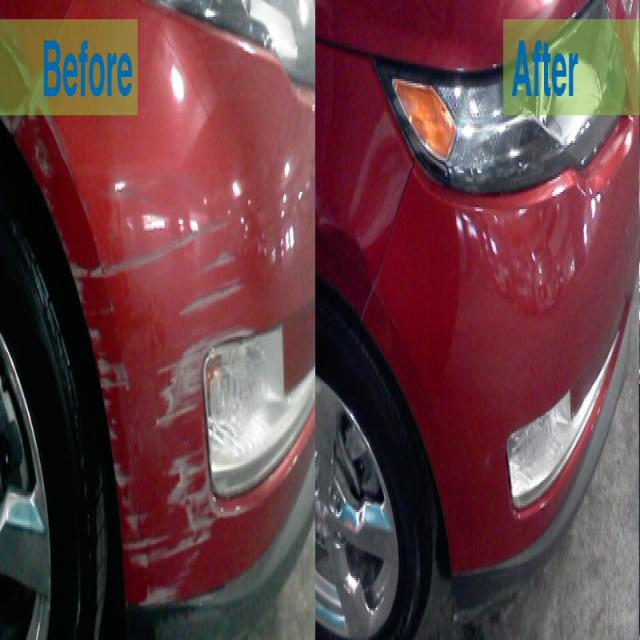scratch: (0, 98, 258, 608)
